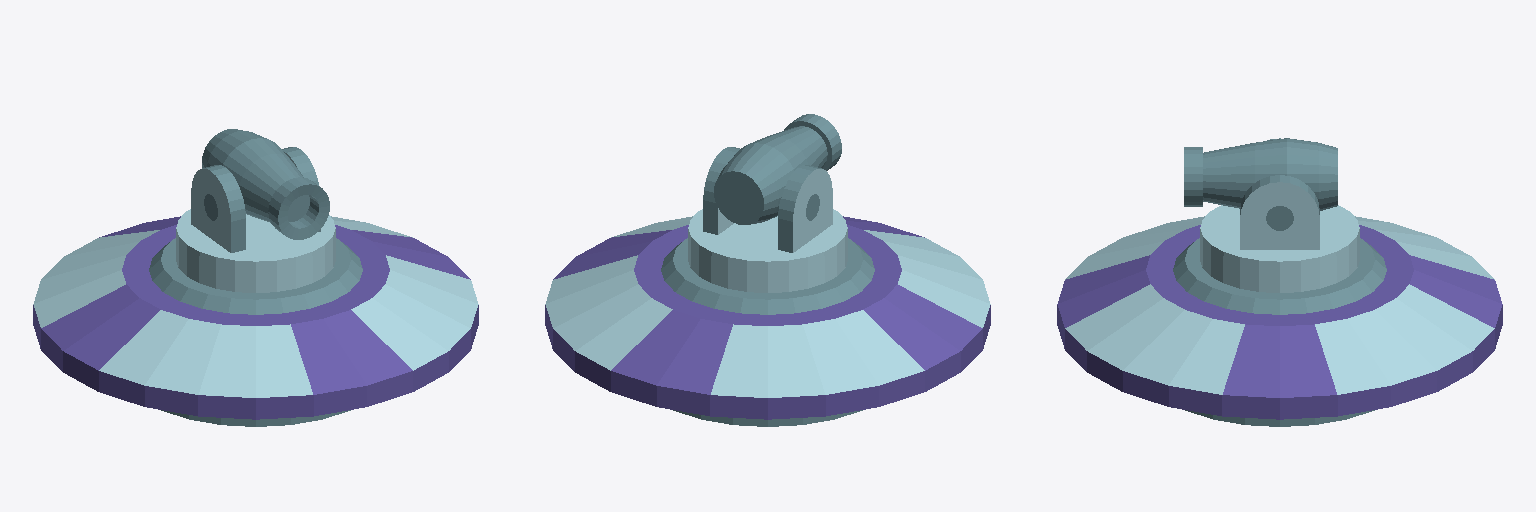
Rendered from EnemyPurpleWG.obj.
The picture shows the model from 3 angles: view 1: azimuth 30°, elevation 25°; view 2: azimuth 150°, elevation 25°; view 3: azimuth 270°, elevation 25°; orthographic projection.
Parts seen in each view (by area): view 1: enemy_ufoPurple; view 2: enemy_ufoPurple; view 3: enemy_ufoPurple.
Part boxes in pixels (x1,y1,x2,y2): enemy_ufoPurple: (33,129,478,426); enemy_ufoPurple: (545,114,990,426); enemy_ufoPurple: (1057,138,1502,426).
Bounding box in the file's own units: 1 × 0.5672 × 1.